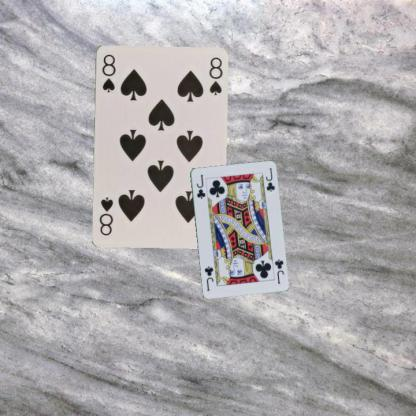8s: (99, 51, 117, 93)
Jc: (272, 256, 285, 285), (194, 172, 206, 200)
